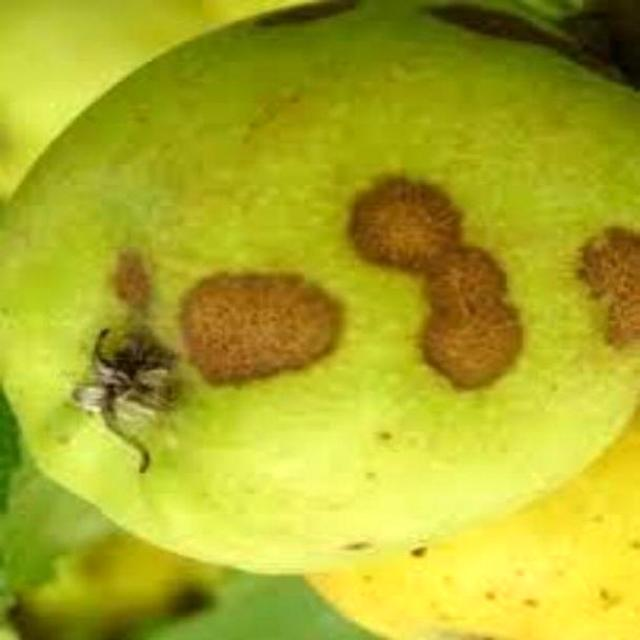SCAB: (14, 15, 638, 600)
